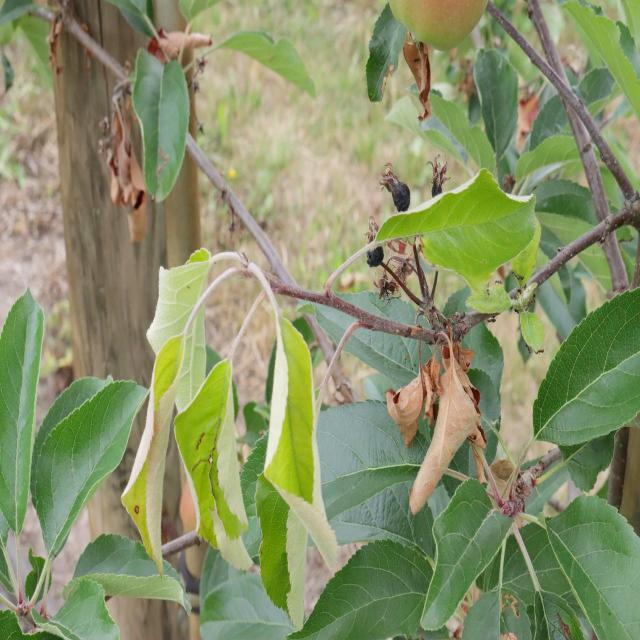-FireBlight-: (390, 322, 482, 512)
